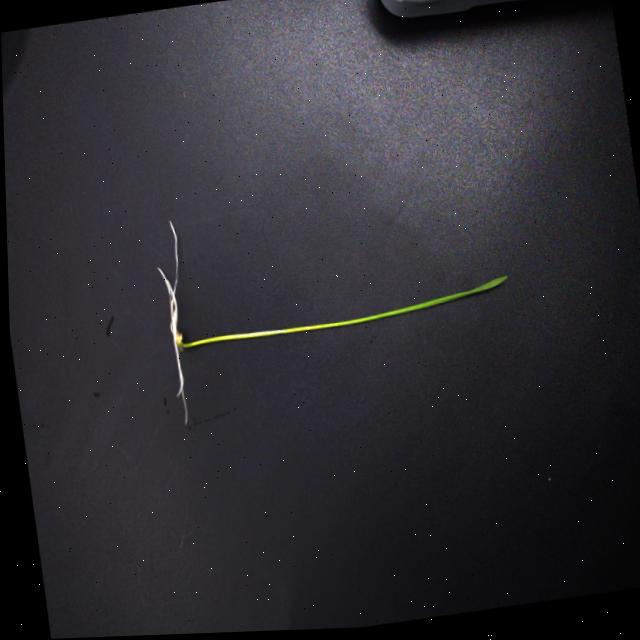leaf: (287, 269, 511, 337)
root: (156, 218, 189, 425)
steb: (175, 325, 290, 353)
